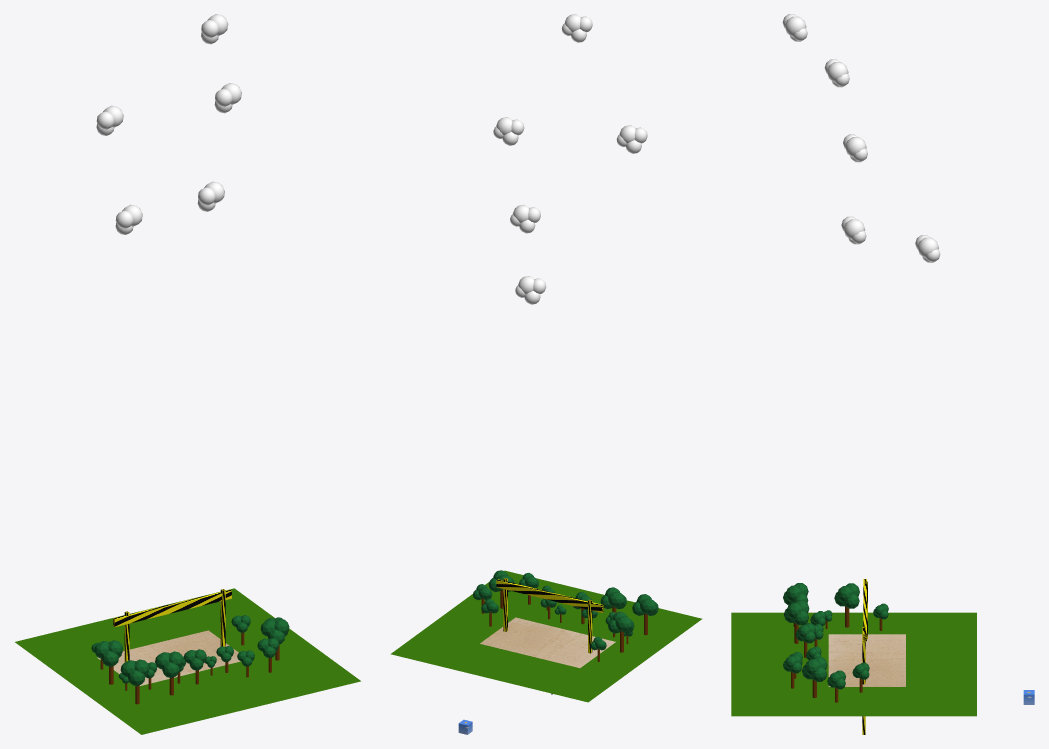
3 renders of one model, left to right at view 1: azimuth 30°, elevation 25°; view 2: azimuth 150°, elevation 25°; view 3: azimuth 270°, elevation 25°, orthographic. The views are drawn at different scales.
Parts seen in each view (by area): view 1: Floor, sand, crane, tree.004, tree.005, tree.010, cloud.003, cloud.001, cloud, cloud.002, cloud.004, tree.001; view 2: Floor, sand, crane, cloud.003, cloud.002, cloud, cloud.001, cloud.004, tree.004, tree.010; view 3: Floor, sand, tree.010, tree.001, tree.005, cloud.001, cloud.002, cloud.004, cloud.003, cloud, crane.
Boxes of the visible parts, x1,y1,x2,y2 form: Floor: (15,588,360,734); sand: (97,630,240,685); crane: (113,589,231,662); tree.004: (120,659,149,704); tree.005: (155,651,183,695); tree.010: (94,640,122,684); cloud.003: (115,204,142,234); cloud.001: (96,105,123,135); cloud: (201,14,228,44); cloud.002: (197,181,224,211); cloud.004: (214,83,241,113); tree.001: (260,619,289,660); Floor: (390,570,702,702); sand: (480,617,615,667); crane: (496,578,603,653); cloud.003: (515,276,546,304); cloud.002: (510,204,540,233); cloud: (561,14,592,42); cloud.001: (616,125,647,153); cloud.004: (493,117,524,145); tree.004: (632,594,658,635); tree.010: (608,611,634,652); Floor: (731,612,976,716); sand: (828,634,905,686); tree.010: (834,583,859,627); tree.001: (802,656,827,697); tree.005: (784,600,809,643); cloud.001: (824,59,849,87); cloud.002: (841,216,866,244); cloud.004: (843,134,867,162); cloud.003: (915,235,940,262); cloud: (782,14,807,41); crane: (862,579,867,734).
Size of the model in its own units: 44 by 138 by 54.36.
Materials: 9 (9 with a texture image).
